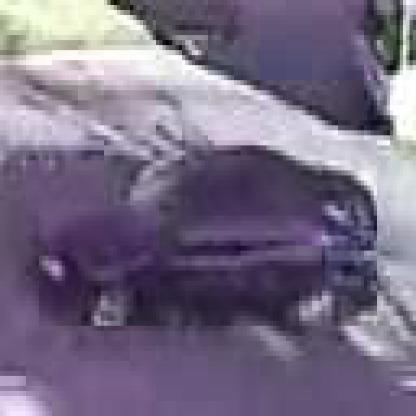car: (40, 141, 381, 332)
